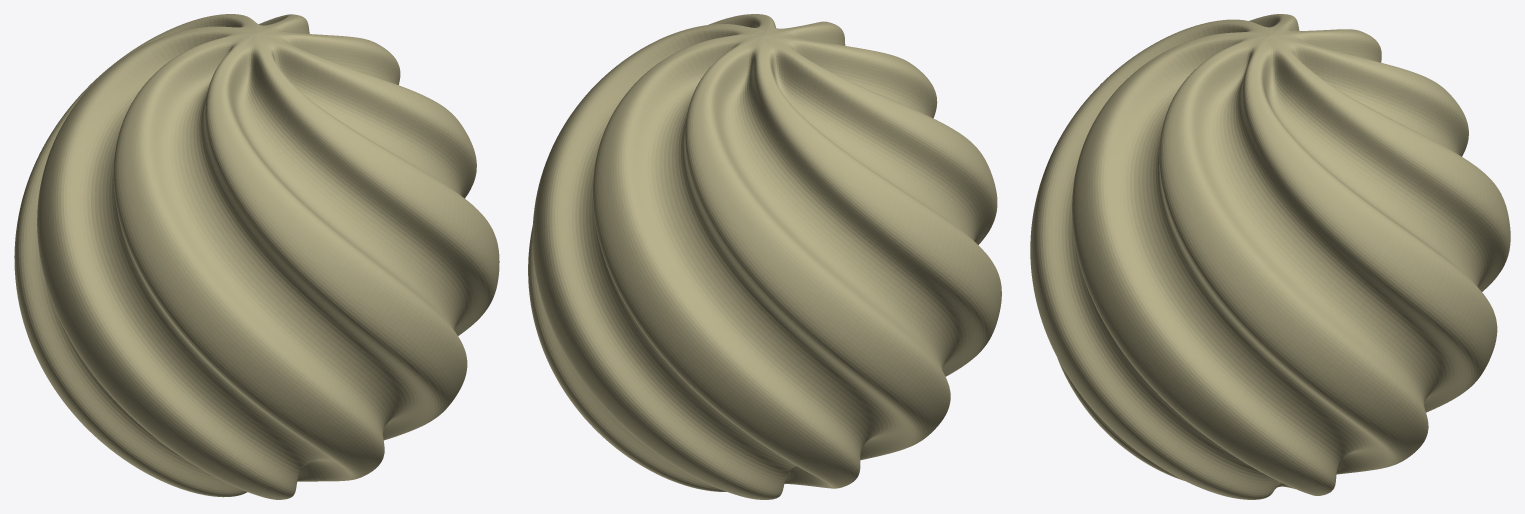
The picture shows the model from 3 angles, left to right: view 1: azimuth 30°, elevation 25°; view 2: azimuth 150°, elevation 25°; view 3: azimuth 270°, elevation 25°; orthographic projection.
Parts seen in each view (by area): view 1: Sphere; view 2: Sphere; view 3: Sphere.
Part boxes in pixels (x1,y1,x2,y2): Sphere: [14, 14, 499, 499]; Sphere: [528, 14, 1001, 499]; Sphere: [1030, 14, 1510, 499].
Bounding box in the file's own units: 2.93 × 2.99 × 2.93.
